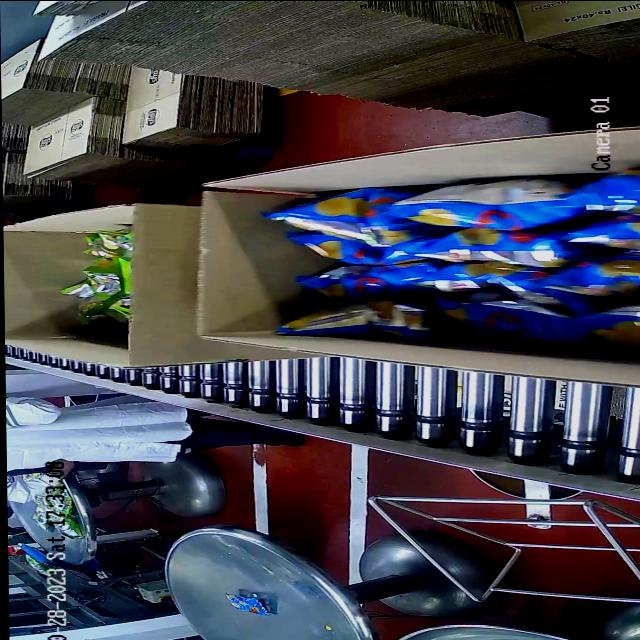PAPRIKA: (290, 169, 640, 323)
